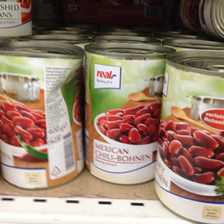beans: (1, 45, 80, 192), (82, 42, 159, 188), (162, 49, 222, 224)
